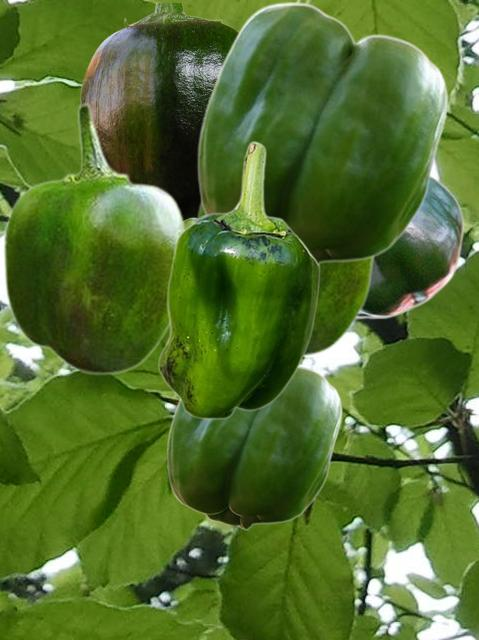bell_pepper: (196, 1, 447, 266), (2, 102, 185, 375), (157, 140, 319, 419), (80, 3, 238, 220), (195, 198, 377, 357), (166, 365, 341, 529), (359, 175, 463, 318)
